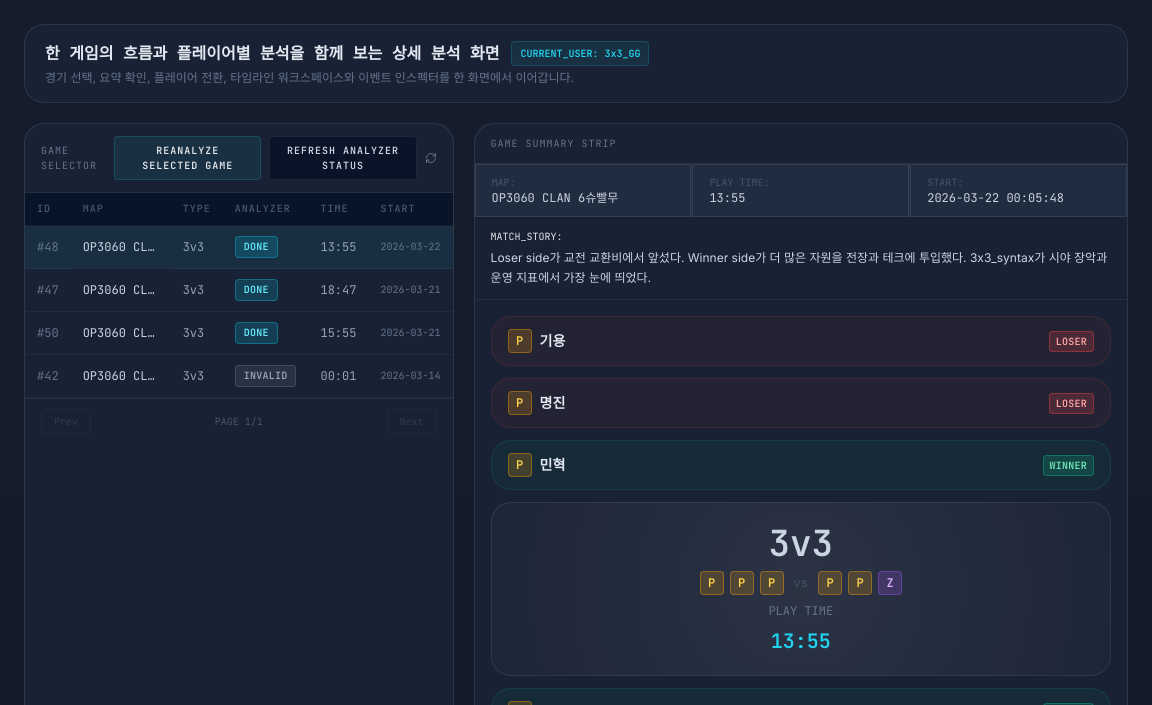
Scenario: analyzer page › falls back to a queued message when reanalyze succeeds with no body
Click the button "REANALYZE SELECTED GAME" at (188, 158), box 114,136 -> 261,180
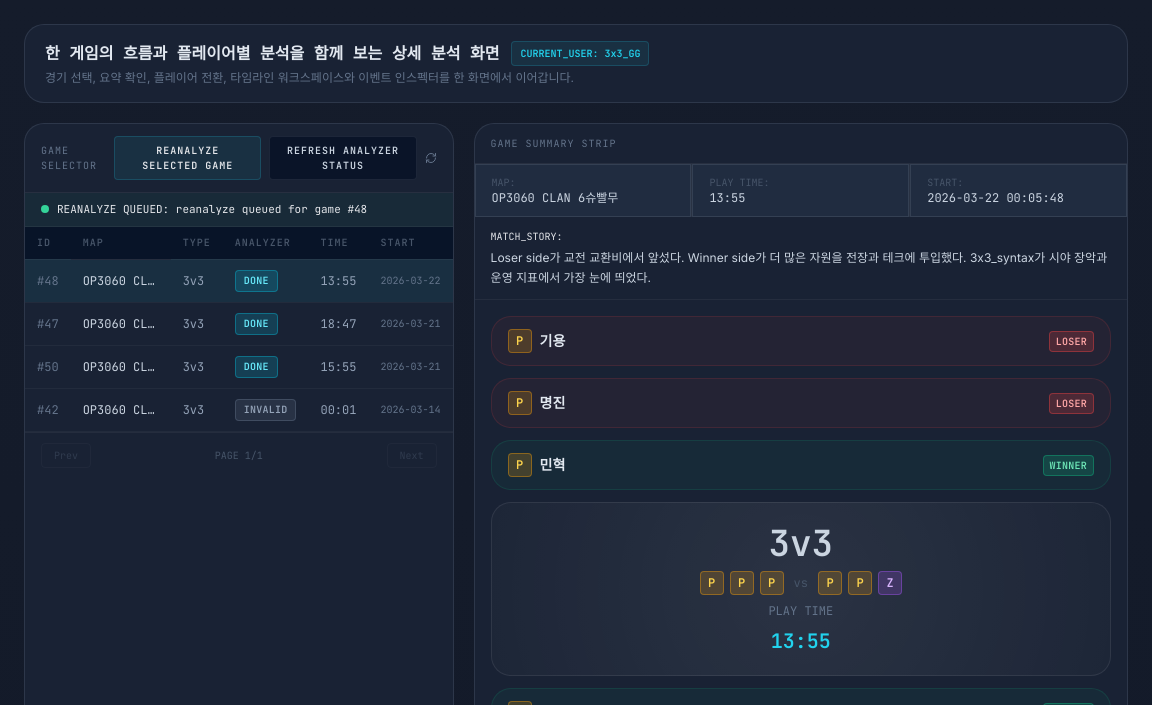
Expected: the text "REANALYZE QUEUED: reanalyze queued for game #48" is shown, 57,201 -> 367,218
